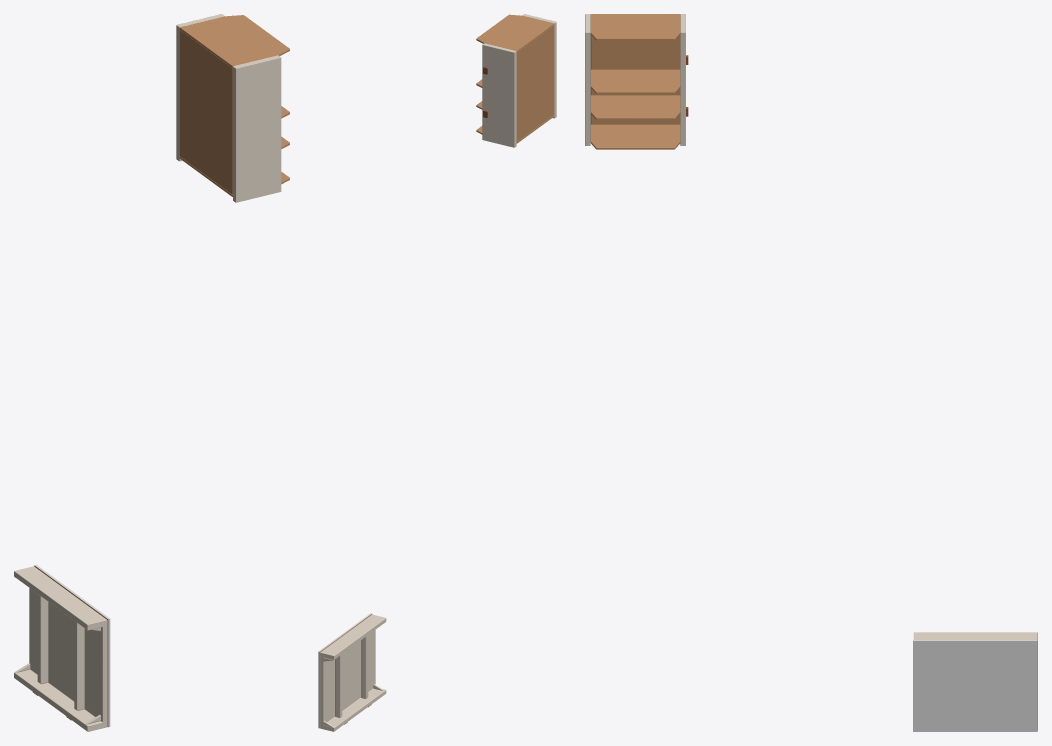
The model's file is BathroomMirror.glb.
3 renders of one model, left to right at view 1: azimuth 30°, elevation 25°; view 2: azimuth 150°, elevation 25°; view 3: azimuth 270°, elevation 25°, orthographic. The views are drawn at different scales.
Visible parts, largest first — view 1: Cube.008_Wood_0, Object_30, Cube_DarkWood_0; view 2: Cube.008_Wood_0, Object_30; view 3: Cube.008_Wood_0, Cube_DarkWood_0, Object_30.
Part boxes in pixels (<box>): Cube.008_Wood_0: <box>176,14,289,202</box>; Object_30: <box>14,566,107,731</box>; Cube_DarkWood_0: <box>34,565,110,727</box>; Cube.008_Wood_0: <box>476,14,556,147</box>; Object_30: <box>320,614,386,731</box>; Cube.008_Wood_0: <box>585,14,688,149</box>; Cube_DarkWood_0: <box>913,640,1037,731</box>; Object_30: <box>913,632,1037,730</box>.
Bounding box in the file's own units: 0.5901 × 6.72 × 3.98.
